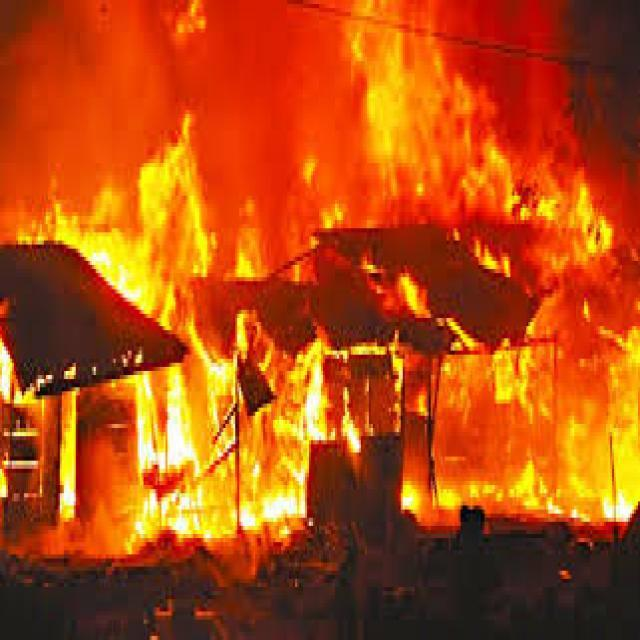Fire: (26, 53, 640, 575)
